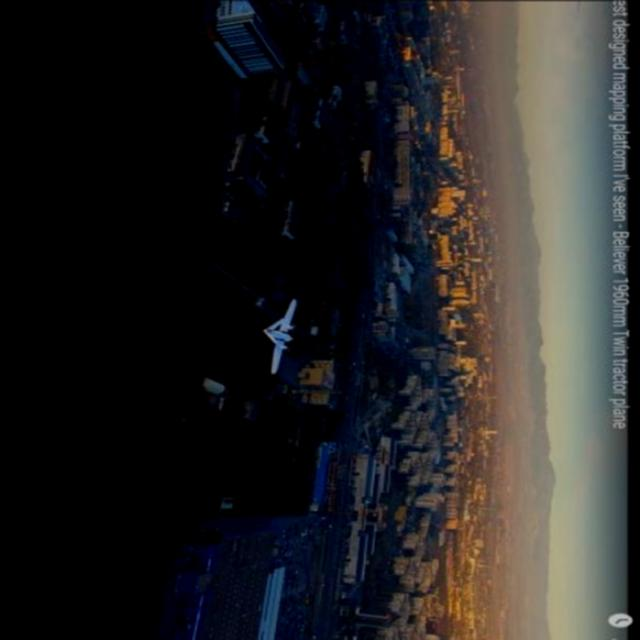plane: (262, 298, 300, 375)
